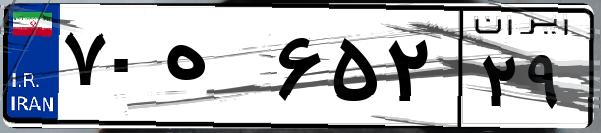0: (110, 28, 158, 98)
2: (385, 28, 445, 110), (475, 38, 525, 113)
5: (330, 28, 385, 110)
6: (270, 28, 330, 110)
7: (57, 26, 110, 100)
9: (525, 38, 570, 115)
ه: (158, 20, 270, 120)
